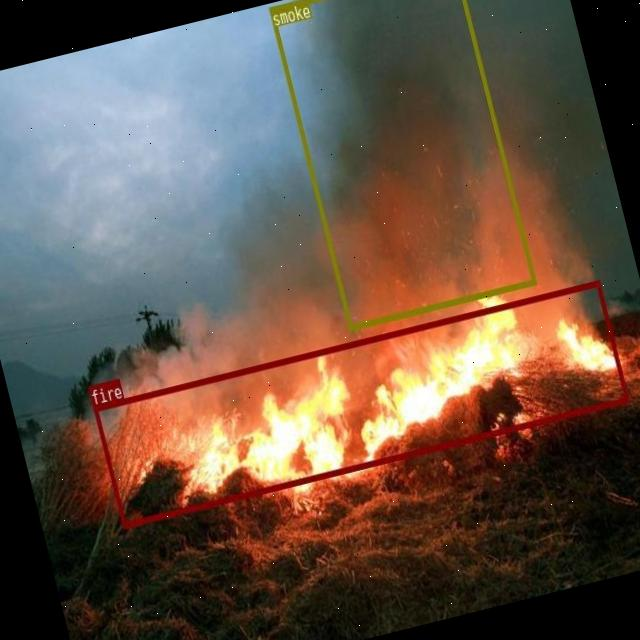fire: (91, 278, 628, 527)
smoke: (267, 0, 535, 329)
